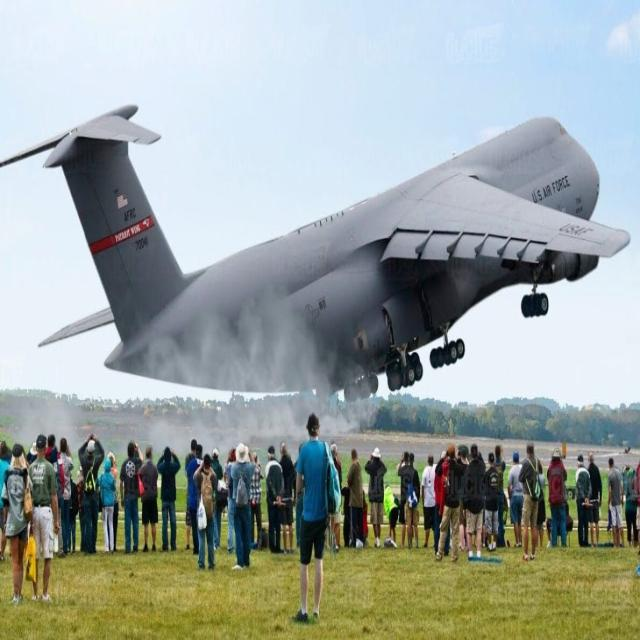C5: (0, 69, 639, 413)
